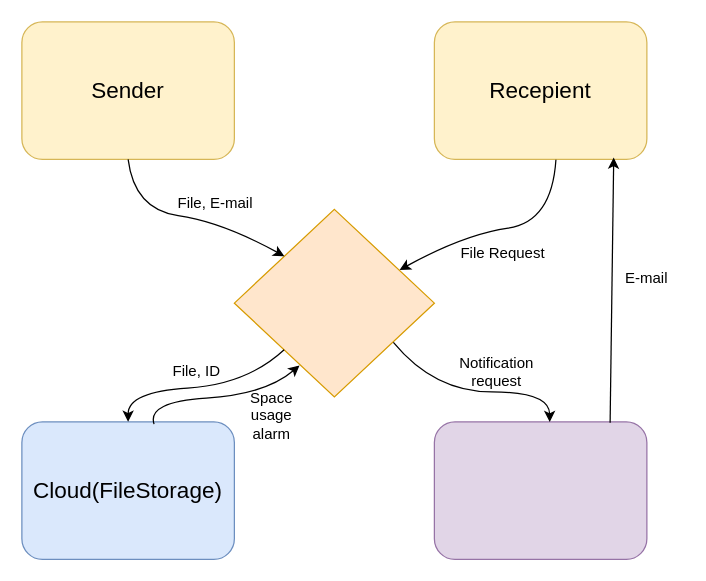
The diagram is 706 pixels wide and 581 high, and some of its shapes have lost their labels. The box of each missing label's shape, as (x1, y1, x2, y2) in pixels:
Email Service: (433, 421, 647, 559)
File Transfer Service: (233, 208, 434, 397)
